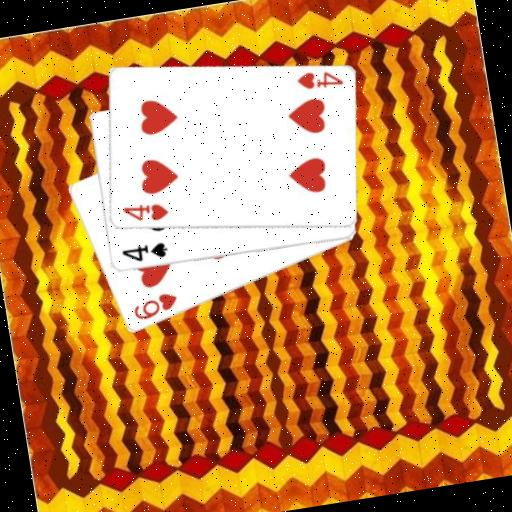4H: (292, 63, 345, 94), (118, 197, 170, 228)
4S: (117, 238, 170, 266)
6H: (128, 288, 181, 323)
